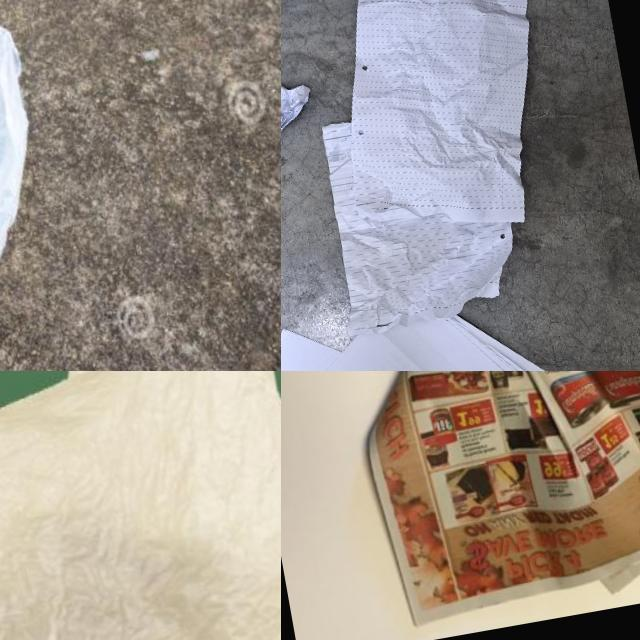papel: (297, 0, 581, 329), (317, 371, 640, 627), (281, 272, 634, 371), (281, 72, 318, 146)
sacola plástica: (0, 371, 281, 640), (0, 4, 80, 371)
